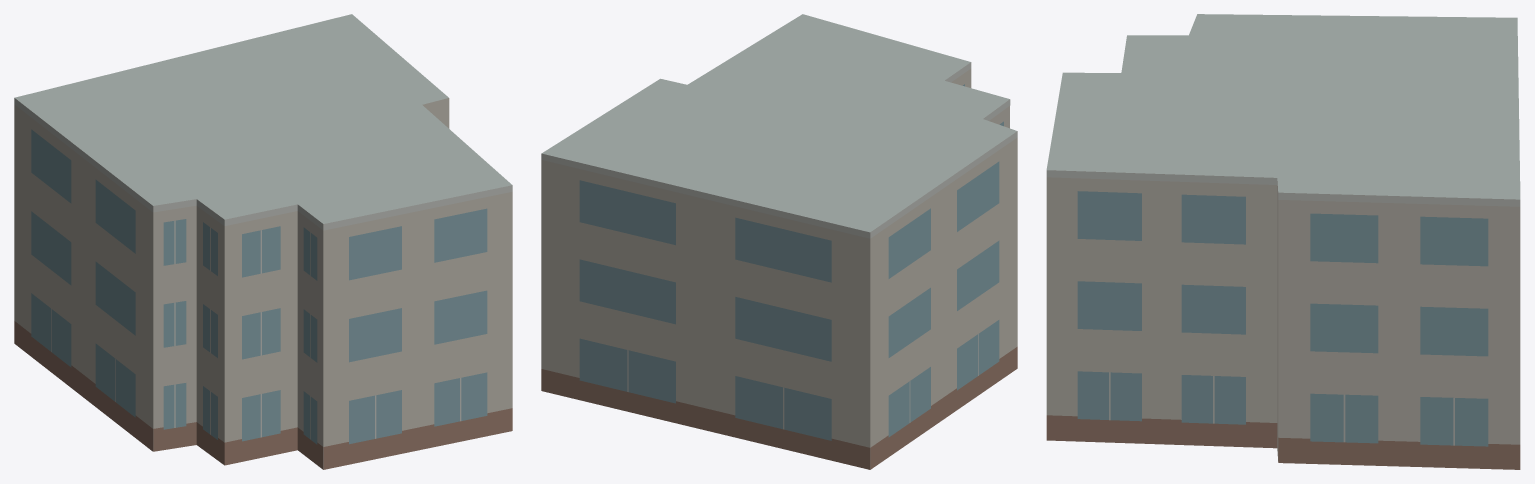
The model's file is survey-upis-32646613.glb.
The picture shows the model from 3 angles, left to right: view 1: azimuth 30°, elevation 25°; view 2: azimuth 150°, elevation 25°; view 3: azimuth 270°, elevation 25°; orthographic projection. The views are drawn at different scales.
Parts seen in each view (by area): view 1: survey-upis-32646613.tmp; view 2: survey-upis-32646613.tmp; view 3: survey-upis-32646613.tmp.
Boxes of the visible parts, left/top/right/bottom form: survey-upis-32646613.tmp: left=14, top=14, right=512, bottom=469; survey-upis-32646613.tmp: left=541, top=14, right=1017, bottom=469; survey-upis-32646613.tmp: left=1046, top=14, right=1520, bottom=469.
Bounding box in the file's own units: 13.48 × 9.15 × 14.55.
